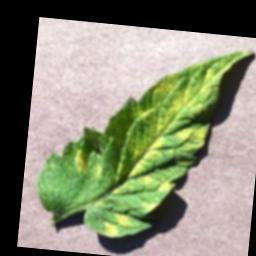Leaf_Mold: (102, 37, 252, 207), (100, 209, 132, 240), (71, 146, 90, 175), (139, 199, 160, 213)
